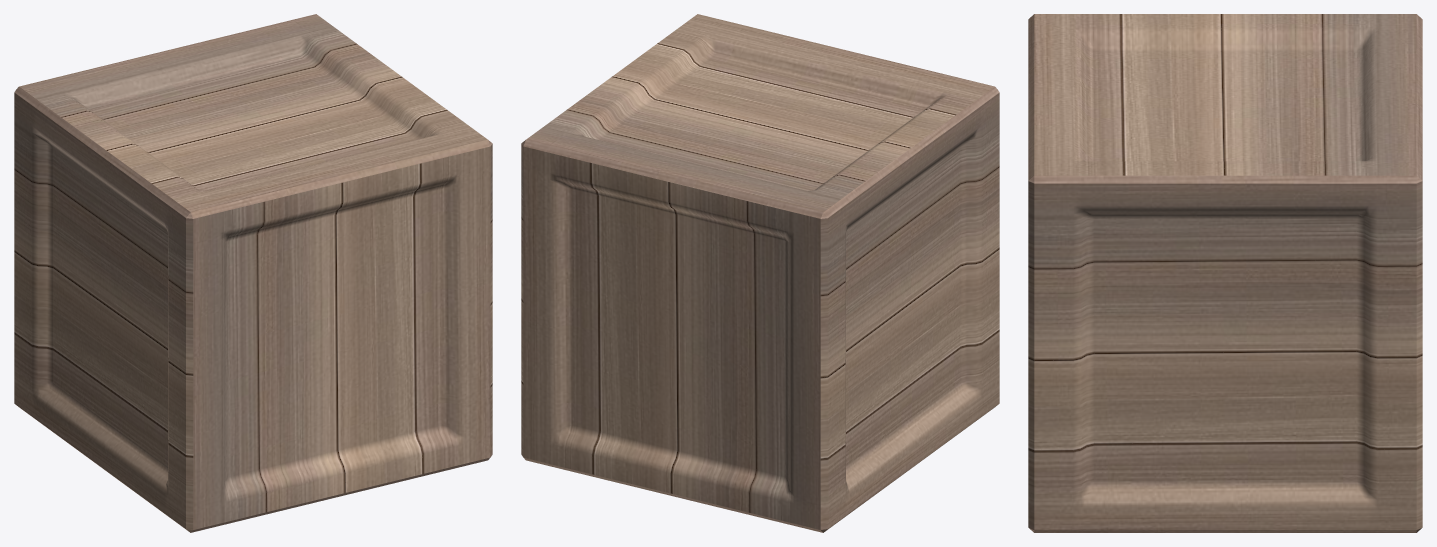
The model's file is crate.fbx.
3 renders of one model, left to right at view 1: azimuth 30°, elevation 25°; view 2: azimuth 150°, elevation 25°; view 3: azimuth 270°, elevation 25°, orthographic. The views are drawn at different scales.
Parts seen in each view (by area): view 1: pCube164; view 2: pCube164; view 3: pCube164.
Boxes of the visible parts, bbox=[...] form: pCube164: bbox=[14, 14, 492, 532]; pCube164: bbox=[521, 14, 999, 532]; pCube164: bbox=[1028, 14, 1422, 532].
Size of the model in its own units: 53.81 by 53.81 by 53.81.
